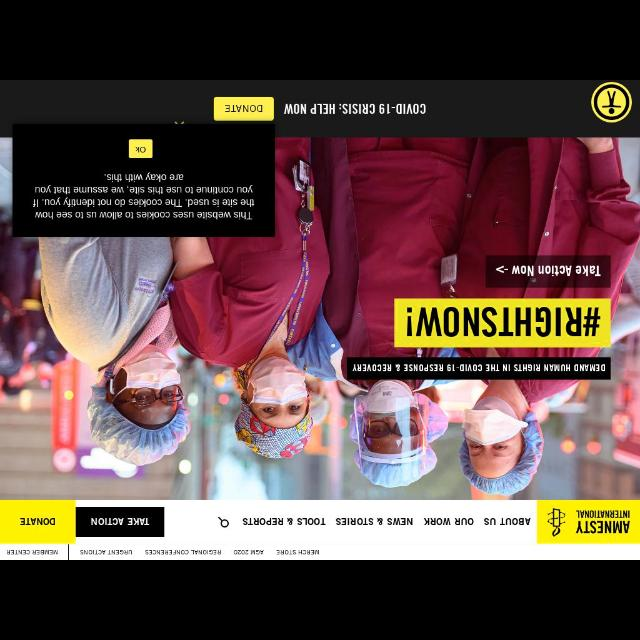backgroundimage: (0, 139, 638, 499)
icon: (217, 516, 229, 528)
image: (590, 81, 632, 123), (546, 508, 566, 536)
multitab: (2, 549, 322, 557)
text: (32, 172, 254, 220), (406, 306, 600, 338), (352, 363, 606, 373), (284, 102, 426, 116), (576, 511, 630, 534), (510, 265, 602, 277), (335, 516, 413, 526), (242, 517, 326, 525), (90, 517, 150, 527), (422, 516, 474, 526), (481, 516, 531, 526), (144, 549, 222, 555), (19, 517, 56, 527), (223, 104, 264, 112), (274, 549, 320, 555), (233, 548, 264, 556), (79, 550, 133, 554), (6, 550, 58, 554), (134, 146, 146, 154)
textbutton: (0, 502, 76, 544), (76, 507, 164, 537), (213, 95, 275, 121), (128, 138, 154, 158)
toolbar: (0, 500, 638, 544)
